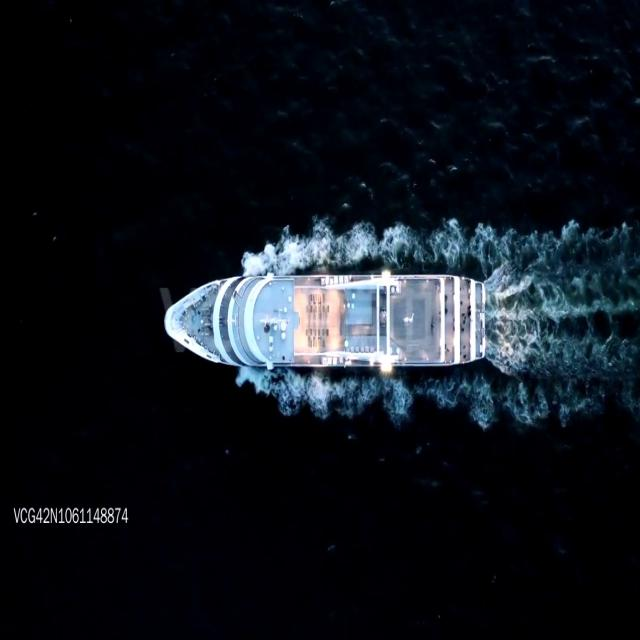passenger ship: (162, 268, 484, 373)
